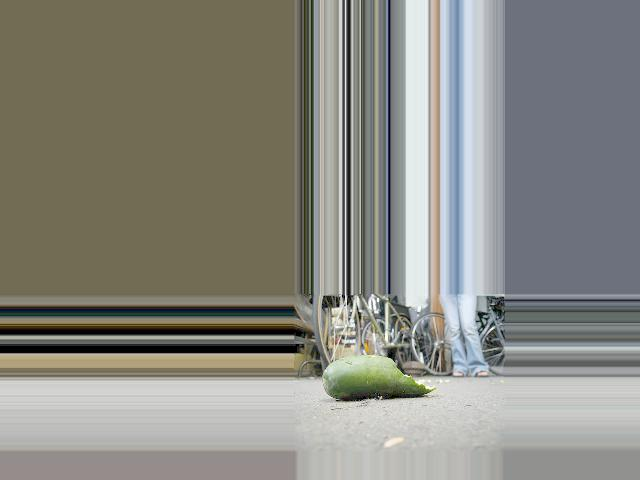cucumber: (322, 355, 437, 399)
